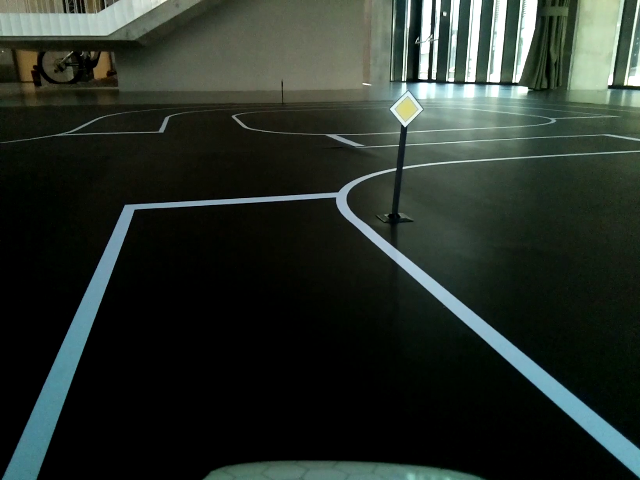priority: (389, 91, 422, 129)
